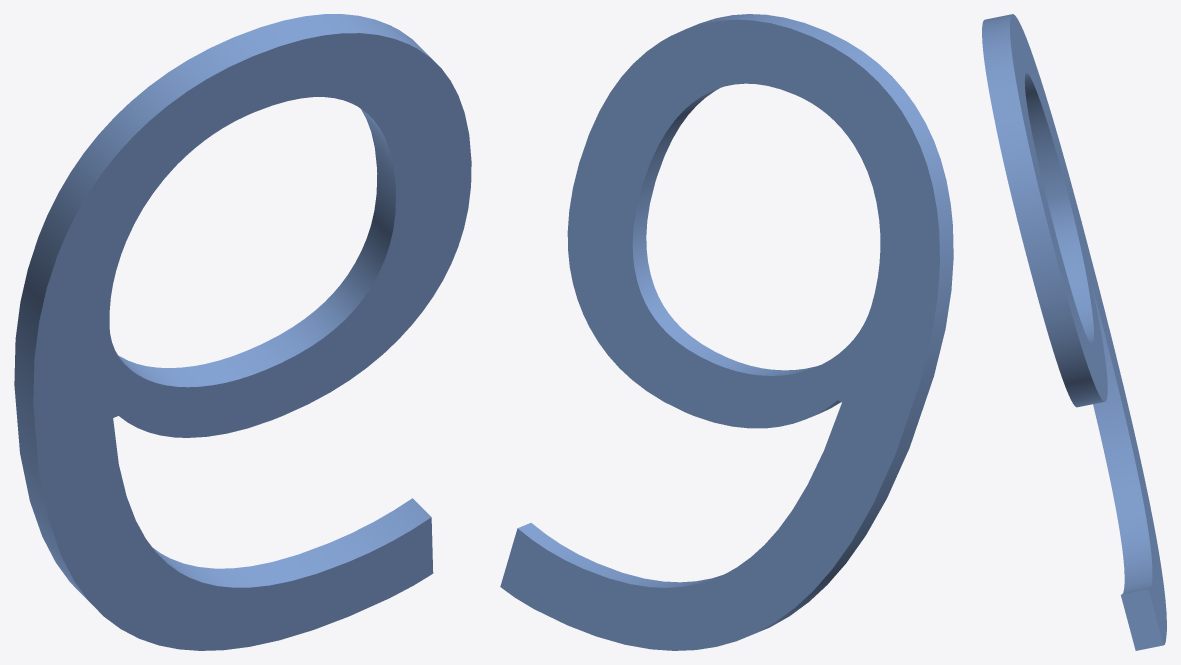
File: New_Number_9.gltf
The picture shows the model from 3 angles, left to right: view 1: azimuth 30°, elevation 25°; view 2: azimuth 150°, elevation 25°; view 3: azimuth 270°, elevation 25°; orthographic projection. The views are drawn at different scales.
Visible parts, largest first — view 1: Part 450; view 2: Part 450; view 3: Part 450.
Boxes of the visible parts, <box> form: Part 450: <box>14,14,471,650</box>; Part 450: <box>500,14,953,650</box>; Part 450: <box>982,14,1166,650</box>.
Bounding box in the file's own units: 0.00375 × 0.00543 × 0.00165.
